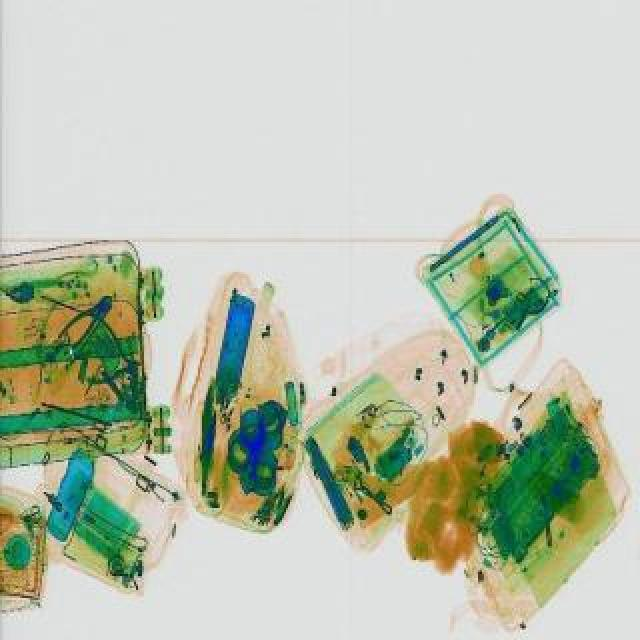wrench: (64, 314, 156, 398), (48, 288, 118, 358)
